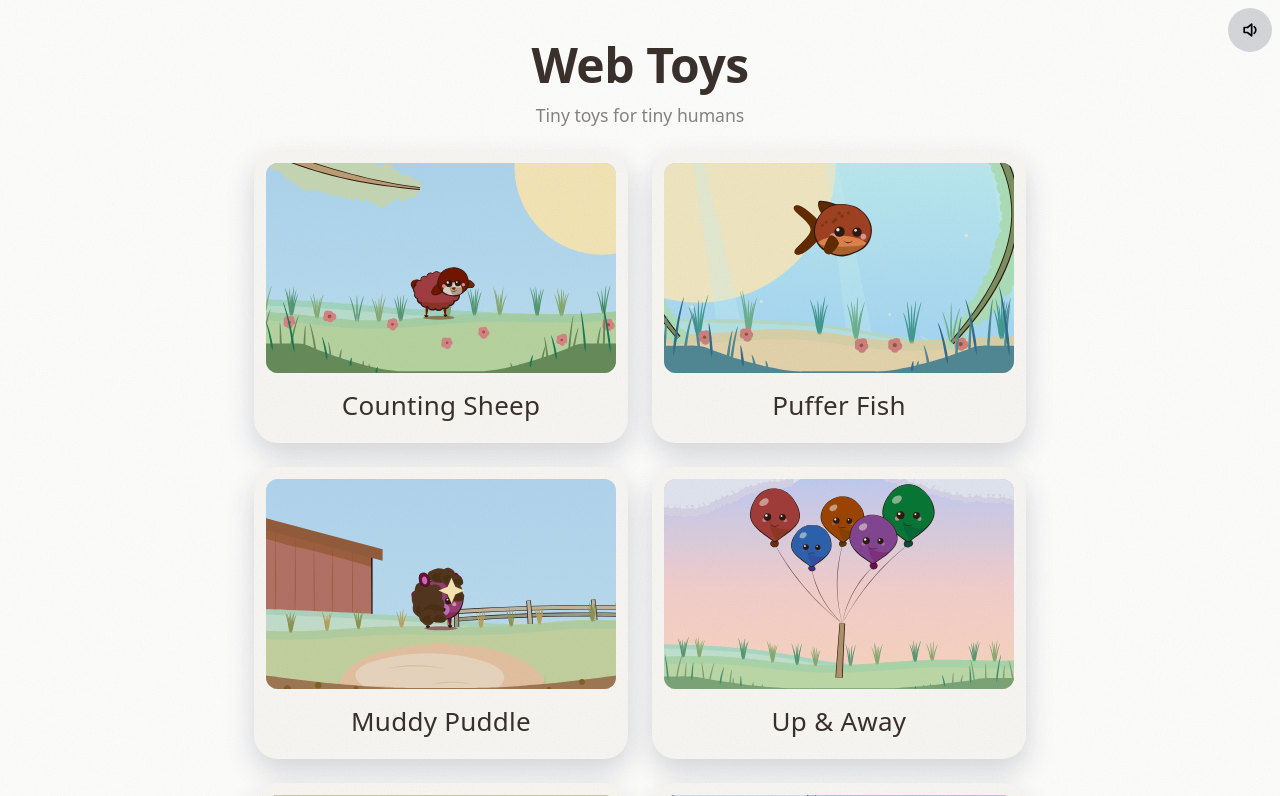
Test: registered toys › routes to the Muddy Puddle Toy when its Card is tapped
The width and height of the screenshot is (1280, 796).
Click the link "Muddy Puddle". click: (441, 613)
box: [254,467,628,759]
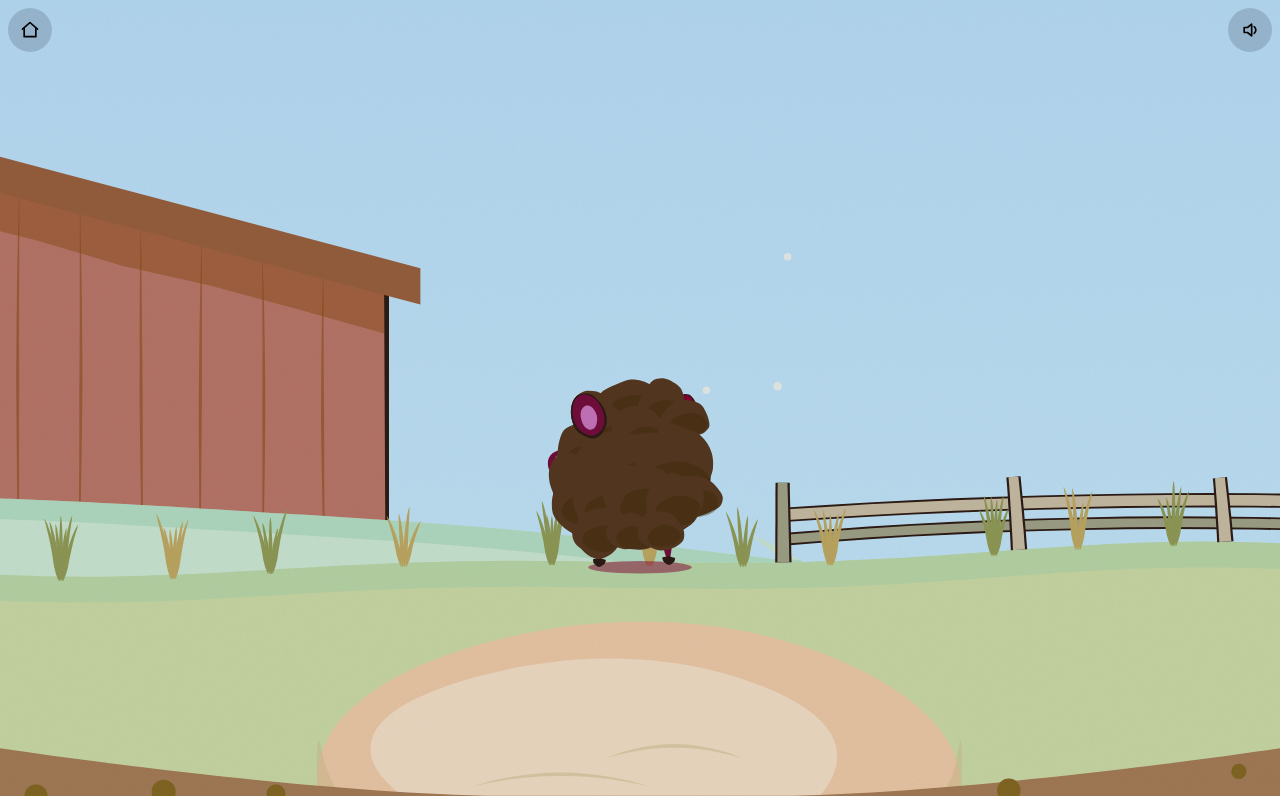
Check: the picture is shown, box [520,358,760,579]
Check: the link "Counting Sheep" is gone
